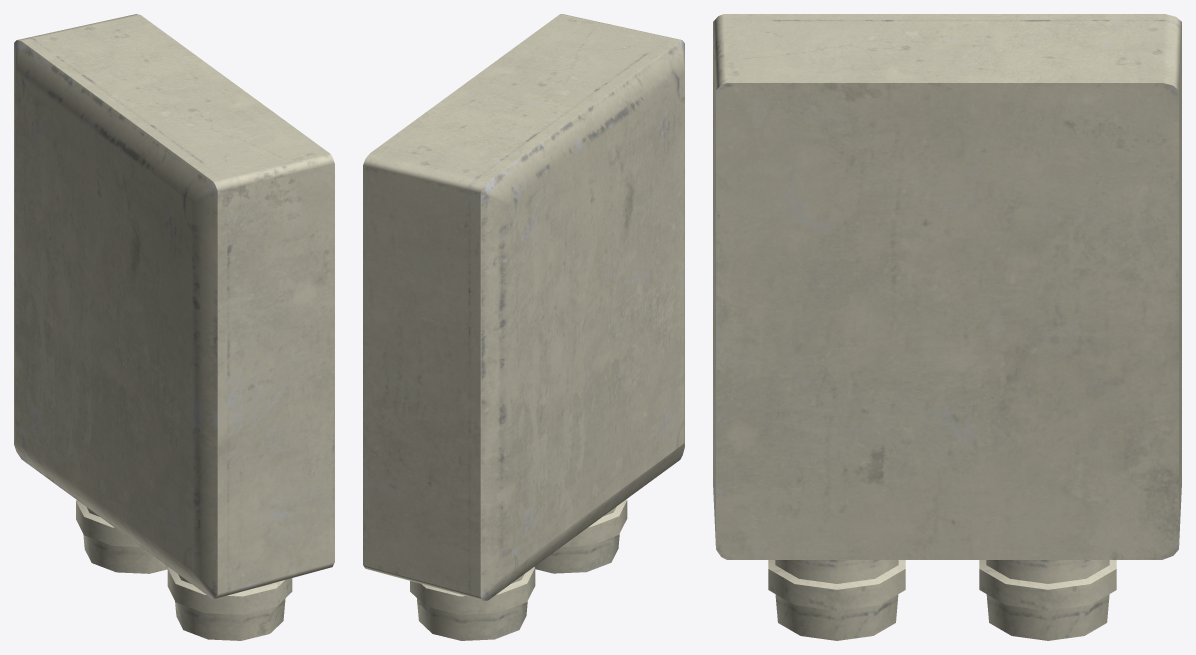
The model's file is SM_Wall_Electrical_Wire_Casing_02e.fbx.
3 renders of one model, left to right at view 1: azimuth 30°, elevation 25°; view 2: azimuth 150°, elevation 25°; view 3: azimuth 270°, elevation 25°, orthographic. The views are drawn at different scales.
Parts seen in each view (by area): view 1: SM_Wall_Electrical_Wire_Casing_02e_LOD0; view 2: SM_Wall_Electrical_Wire_Casing_02e_LOD0; view 3: SM_Wall_Electrical_Wire_Casing_02e_LOD0.
Boxes of the visible parts, bbox=[...] form: SM_Wall_Electrical_Wire_Casing_02e_LOD0: bbox=[14, 14, 334, 640]; SM_Wall_Electrical_Wire_Casing_02e_LOD0: bbox=[363, 14, 684, 640]; SM_Wall_Electrical_Wire_Casing_02e_LOD0: bbox=[713, 14, 1181, 640].
Size of the model in its own units: 3.06 by 8.09 by 10.73.
